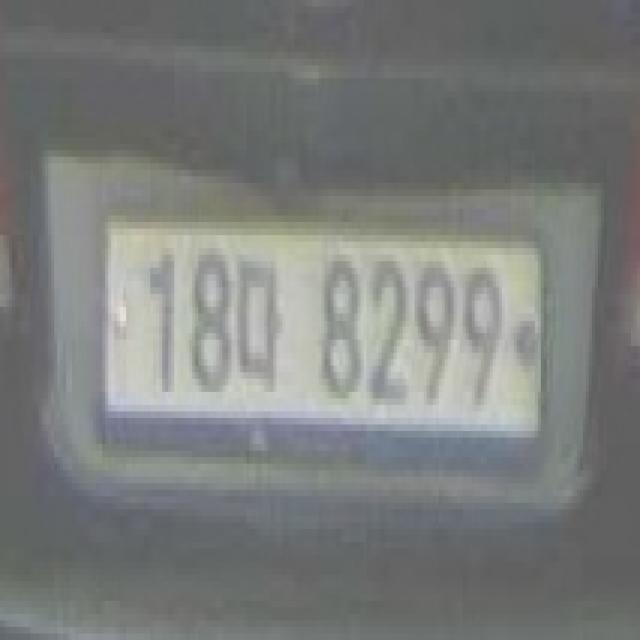1: (144, 242, 180, 405)
2: (364, 235, 412, 412)
8: (187, 235, 234, 405), (318, 242, 361, 405)
9: (412, 235, 459, 425), (460, 242, 505, 418)
da: (238, 235, 282, 398)
license_plate: (93, 202, 553, 470)
